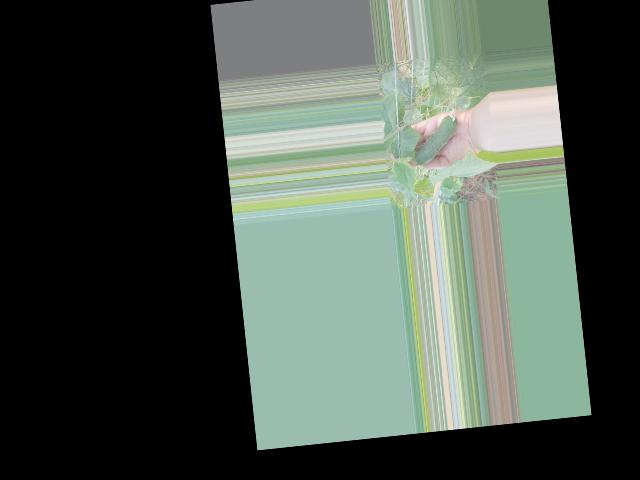cucumber: (409, 107, 461, 165)
